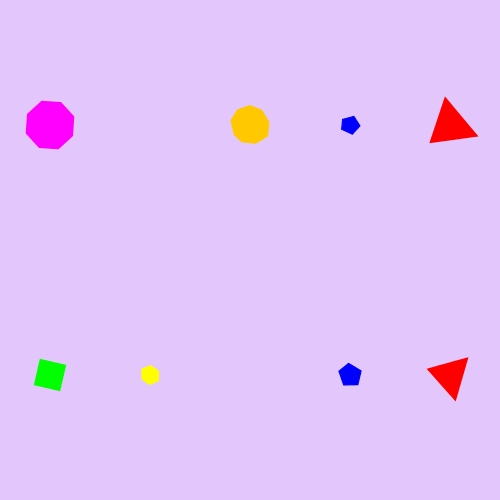hexagon: (135, 362, 165, 388)
nonagon: (226, 102, 274, 148)
octagon: (21, 96, 79, 154)
pentagon: (334, 359, 366, 391), (336, 111, 364, 139)
quadrilateral: (28, 353, 73, 398)
triangle: (425, 98, 476, 152), (427, 351, 473, 400)
